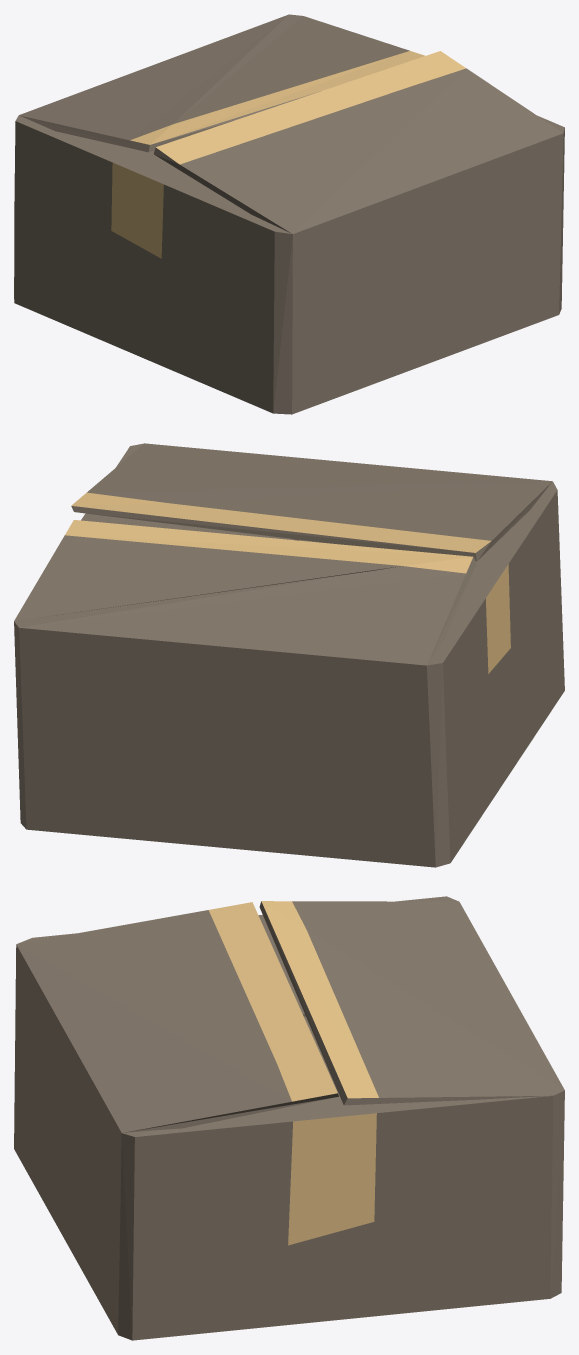
File: another_corton.glb
The picture shows the model from 3 angles, top to bottom: view 1: azimuth 30°, elevation 25°; view 2: azimuth 150°, elevation 25°; view 3: azimuth 270°, elevation 25°; orthographic projection. The views are drawn at different scales.
Visible parts, largest first — view 1: another_corton; view 2: another_corton; view 3: another_corton.
Boxes of the visible parts, x1=… form: another_corton: x1=14, y1=14, x2=564, y2=414; another_corton: x1=14, y1=443, x2=564, y2=867; another_corton: x1=14, y1=896, x2=564, y2=1340.
Size of the model in its own units: 0.3292 by 0.1595 by 0.3277.
